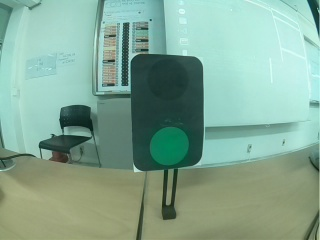green_light: (129, 54, 205, 172)
